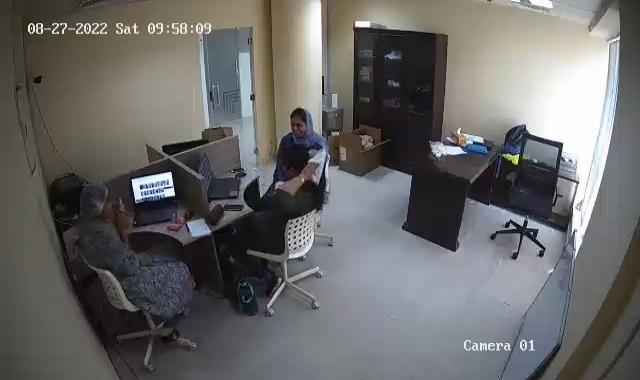hairnet: (81, 179, 111, 216)
no_hairnet: (279, 150, 317, 187), (288, 105, 319, 138)
